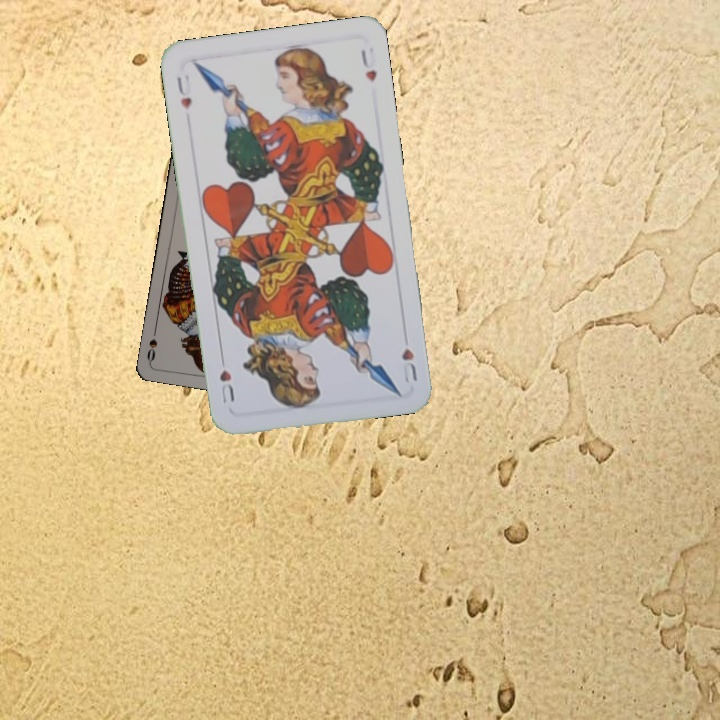HU: (397, 344, 420, 386), (172, 72, 194, 113)
